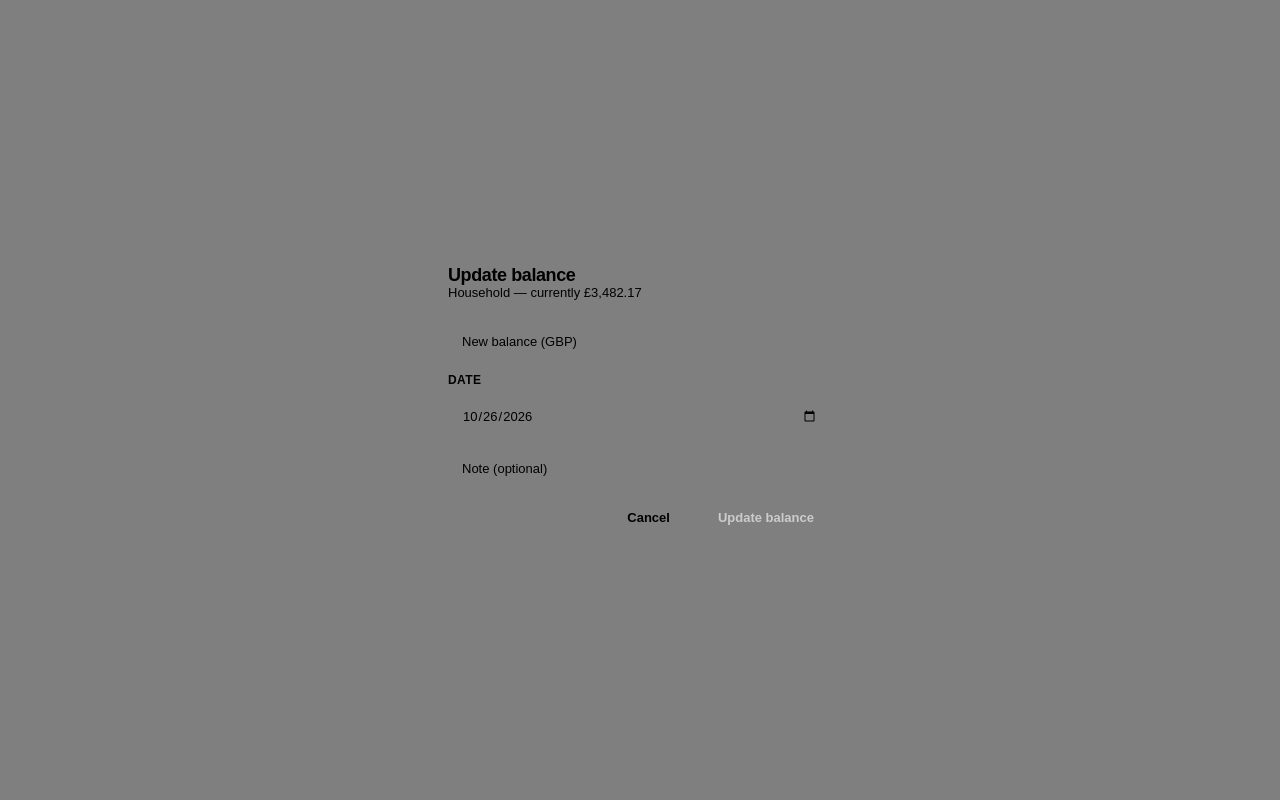
Scenario: UpdateBalanceModal › keeps the dialog open with a message when saving fails
The width and height of the screenshot is (1280, 800).
Type "100" into the field labelled "New balance" at (640, 342), box [448,322,832,362]
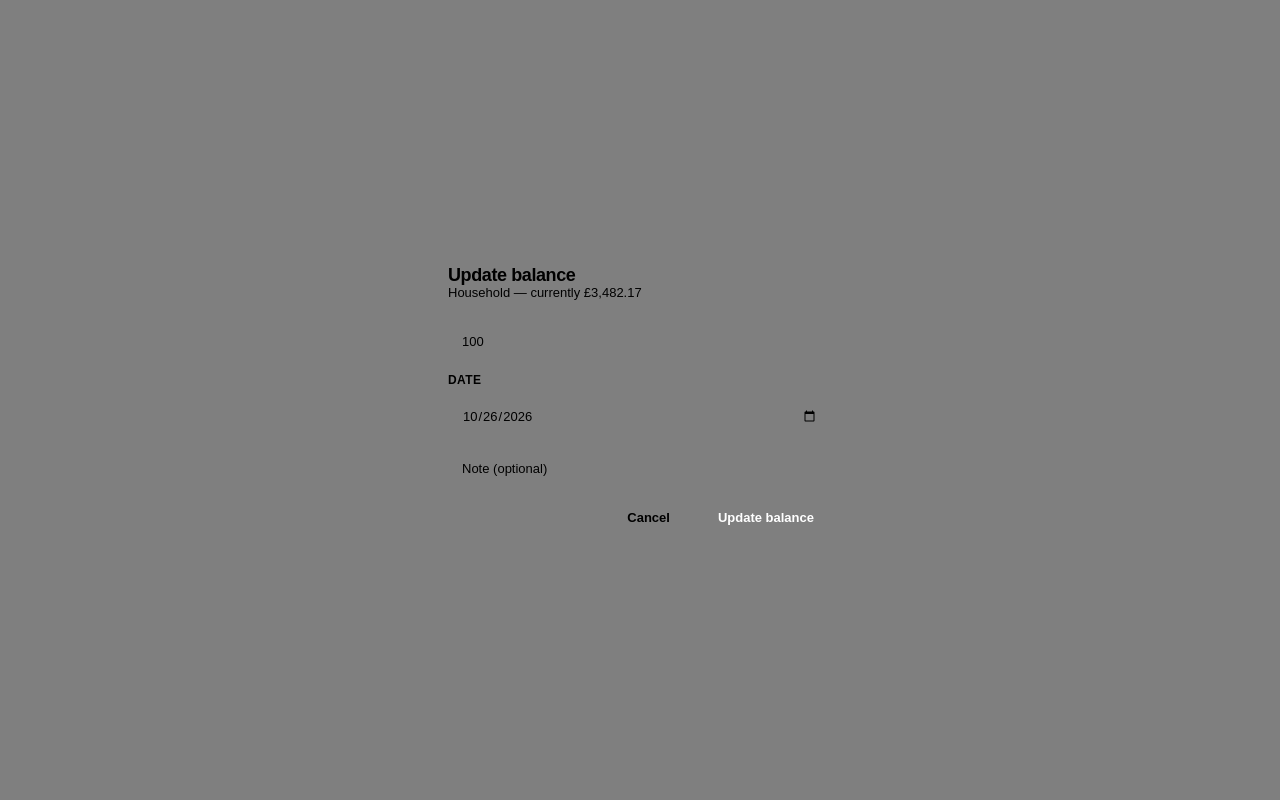
Click the button "Update balance" at (766, 517), box [700,501,832,534]
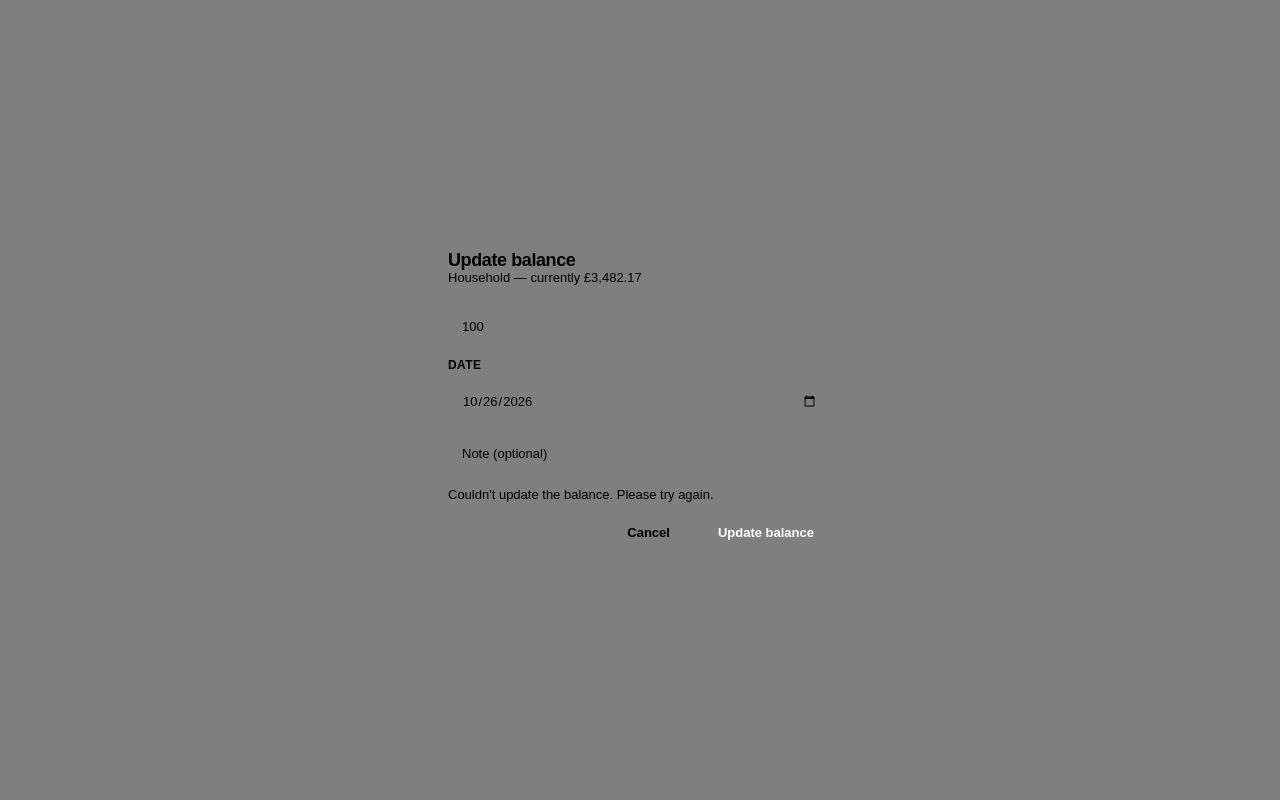
Check: the text "Couldn't update the balance. Please try again." is shown, box [448,487,714,502]
